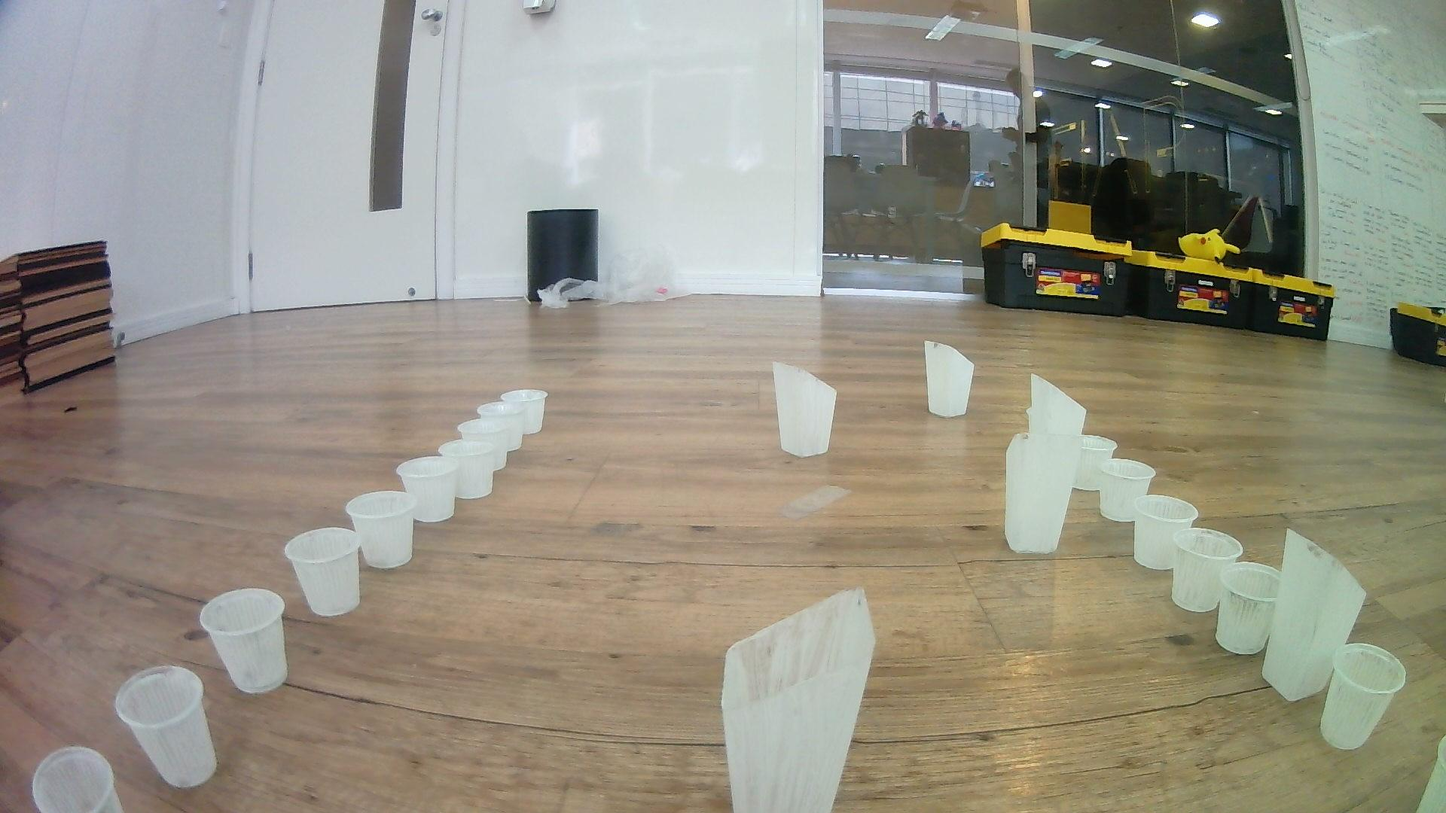erva_daninha: (721, 586, 878, 813), (1259, 527, 1367, 702), (1002, 431, 1081, 554), (773, 361, 838, 458), (923, 340, 976, 419), (1025, 373, 1088, 437)
planta: (114, 664, 218, 790), (1318, 642, 1408, 751), (199, 588, 290, 695), (284, 526, 362, 617), (1170, 527, 1244, 614), (1215, 562, 1283, 656), (30, 747, 125, 813), (343, 490, 416, 570), (1131, 495, 1198, 571), (395, 455, 459, 524), (1095, 458, 1157, 523), (438, 438, 496, 501), (457, 419, 509, 472), (1070, 435, 1118, 492), (477, 402, 526, 452), (499, 389, 548, 435)
